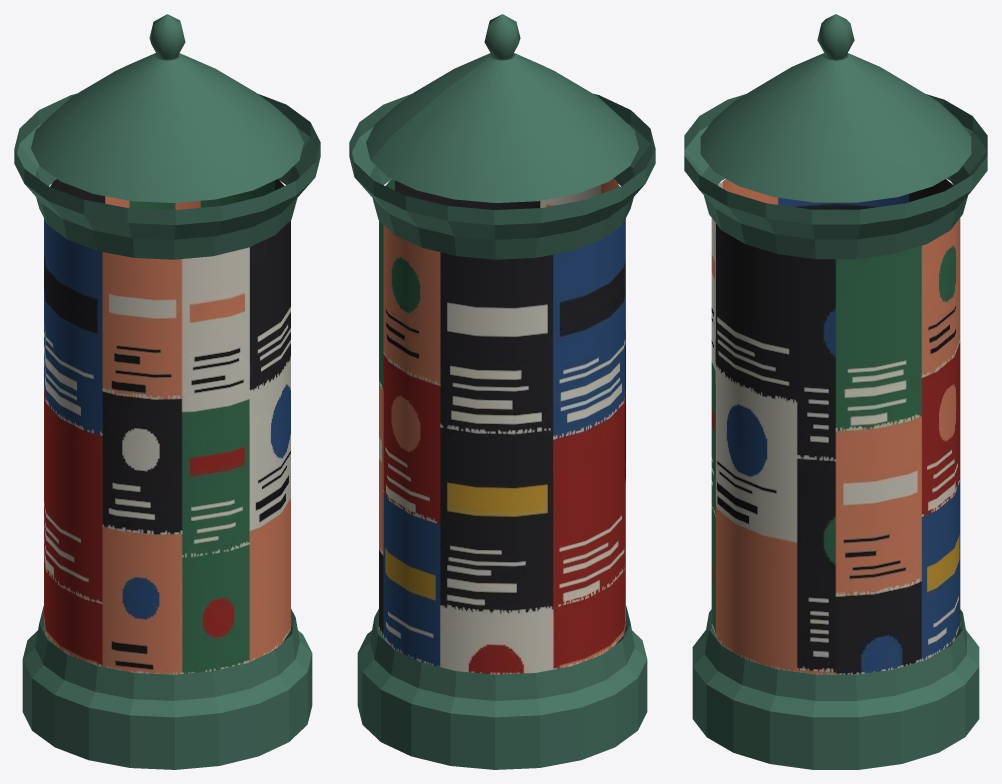
The model's file is advertising-column.glb.
3 views of the same model, side by side, from view 1: azimuth 30°, elevation 25°; view 2: azimuth 150°, elevation 25°; view 3: azimuth 270°, elevation 25° (orthographic).
Visible parts, largest first — view 1: advertising-column; view 2: advertising-column; view 3: advertising-column.
Boxes of the visible parts, x1,y1,x2,y2 form: advertising-column: (14, 14, 320, 769); advertising-column: (349, 14, 655, 769); advertising-column: (684, 14, 987, 769).
Size of the model in its own units: 1.46 by 3.7 by 1.46.
Materials: 2 (1 with a texture image).
